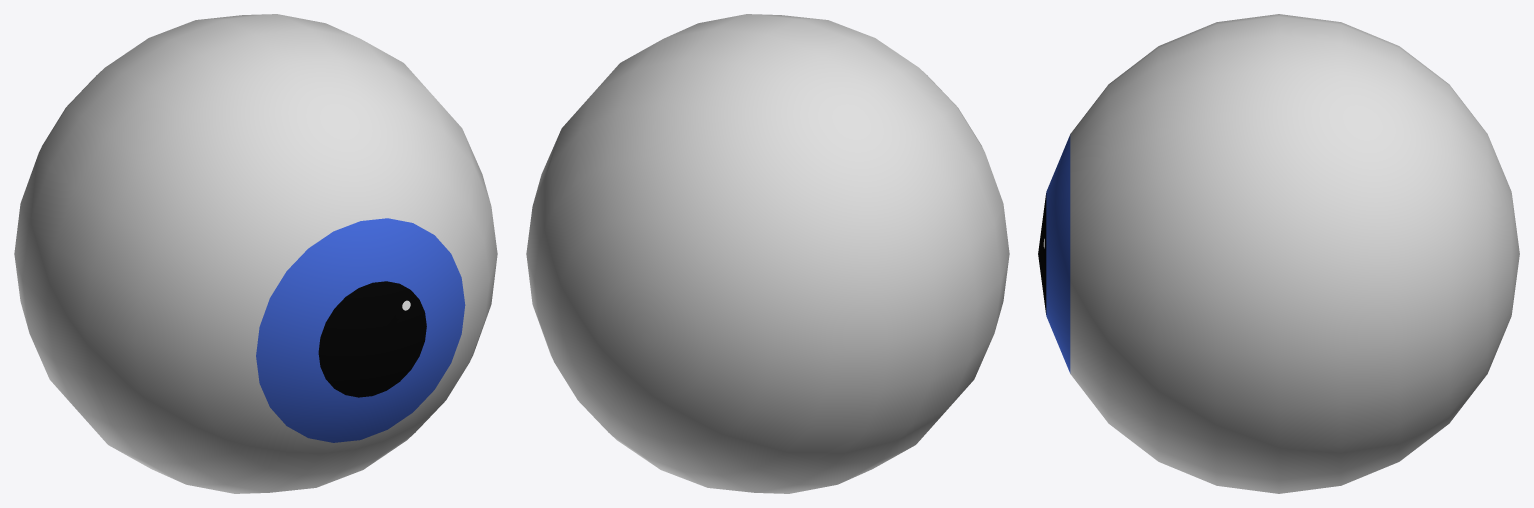
The model's file is Giant Eyeball.fbx.
3 renders of one model, left to right at view 1: azimuth 30°, elevation 25°; view 2: azimuth 150°, elevation 25°; view 3: azimuth 270°, elevation 25°, orthographic.
Visible parts, largest first — view 1: Model; view 2: Model; view 3: Model.
Boxes of the visible parts, x1,y1,x2,y2 form: Model: (14, 14, 497, 493); Model: (526, 14, 1009, 493); Model: (1038, 14, 1519, 493).
Bounding box in the file's own units: 23.25 × 23.25 × 23.25.
